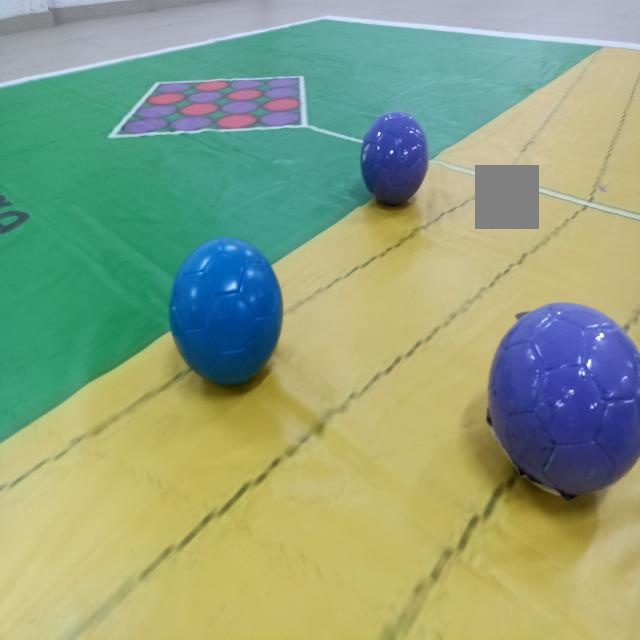blue_ball: (162, 231, 290, 388)
purple_ball: (484, 301, 640, 499), (359, 109, 430, 213)
